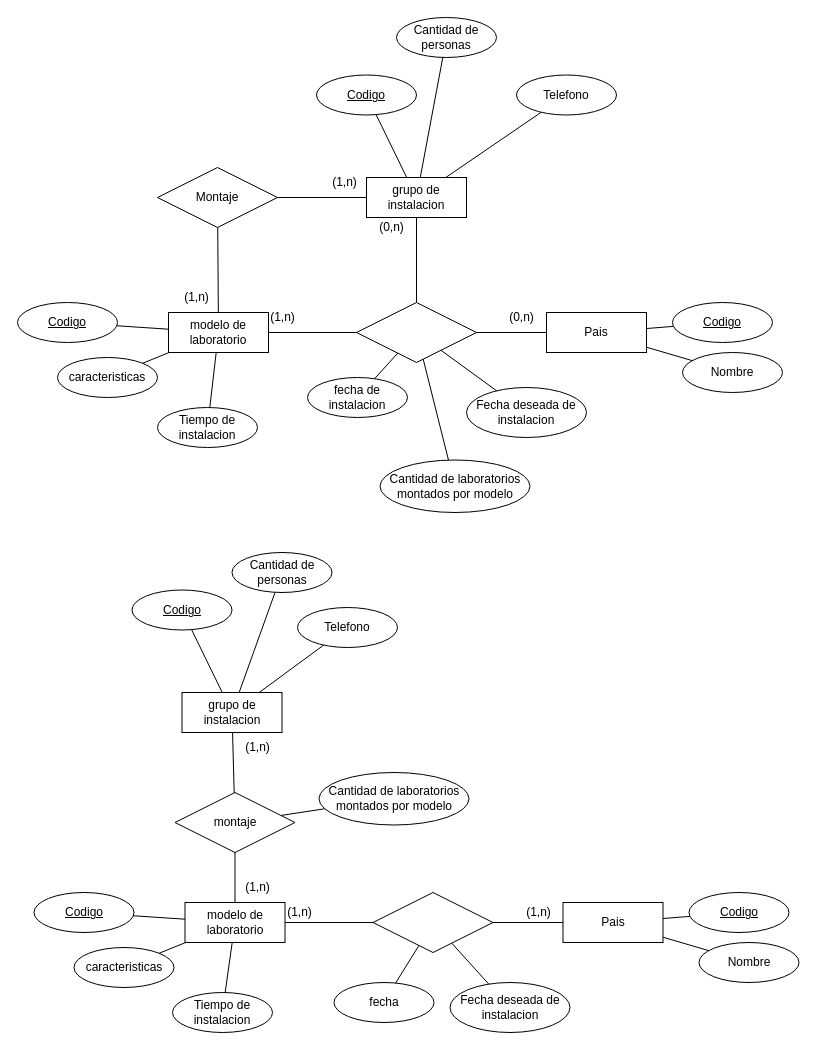
Some shapes in this 817 by 1050 pixel diagram are drawn without their labels. Each missing label, with the centre of its shape:
instala: the point at 416,332
instalado: the point at 432,922
